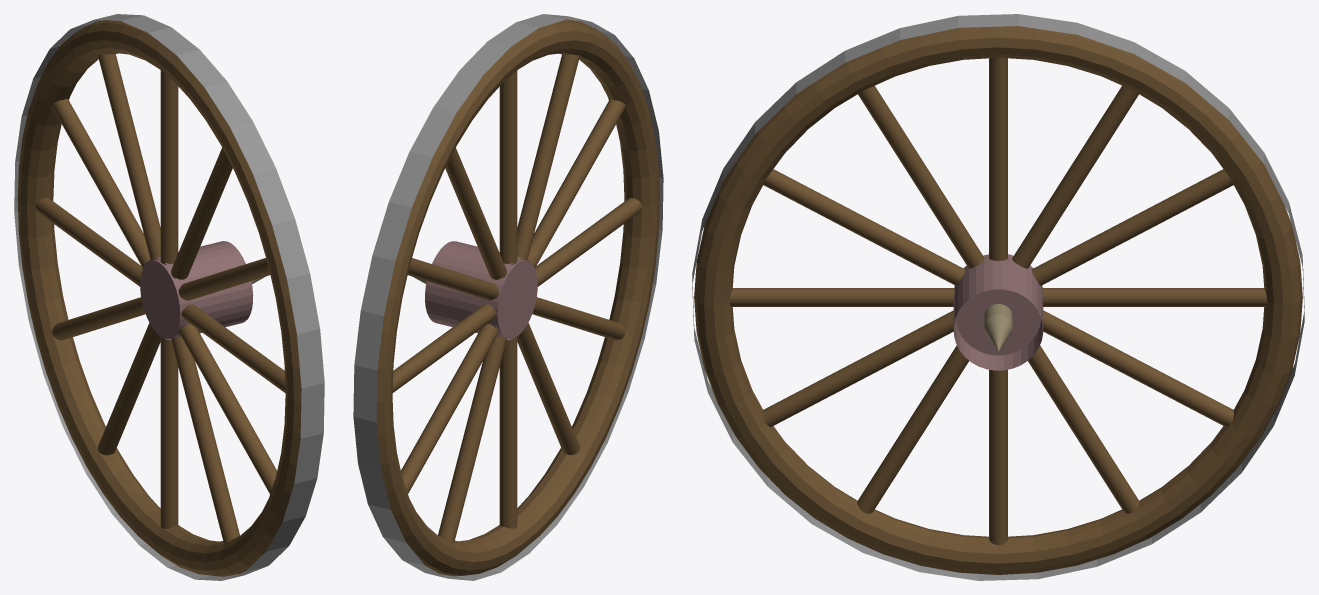
File: Rueda de madera v2.dae
3 views of the same model, side by side, from view 1: azimuth 30°, elevation 25°; view 2: azimuth 150°, elevation 25°; view 3: azimuth 270°, elevation 25° (orthographic). The views are drawn at different scales.
Parts seen in each view (by area): view 1: Rueda; view 2: Rueda; view 3: Rueda.
Part boxes in pixels (box(x1,y1,x2,y2)): Rueda: box(14, 14, 324, 580); Rueda: box(353, 14, 663, 580); Rueda: box(692, 14, 1304, 580).
Size of the model in its own units: 0.5166 by 2.15 by 2.15.
